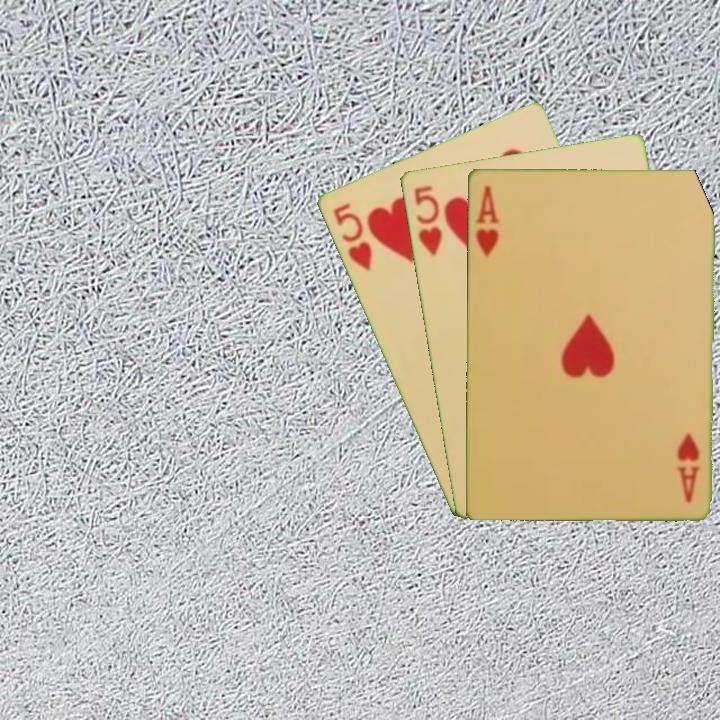5h: (329, 199, 374, 274), (410, 182, 445, 259)
Ah: (472, 182, 502, 259), (674, 429, 702, 505)
